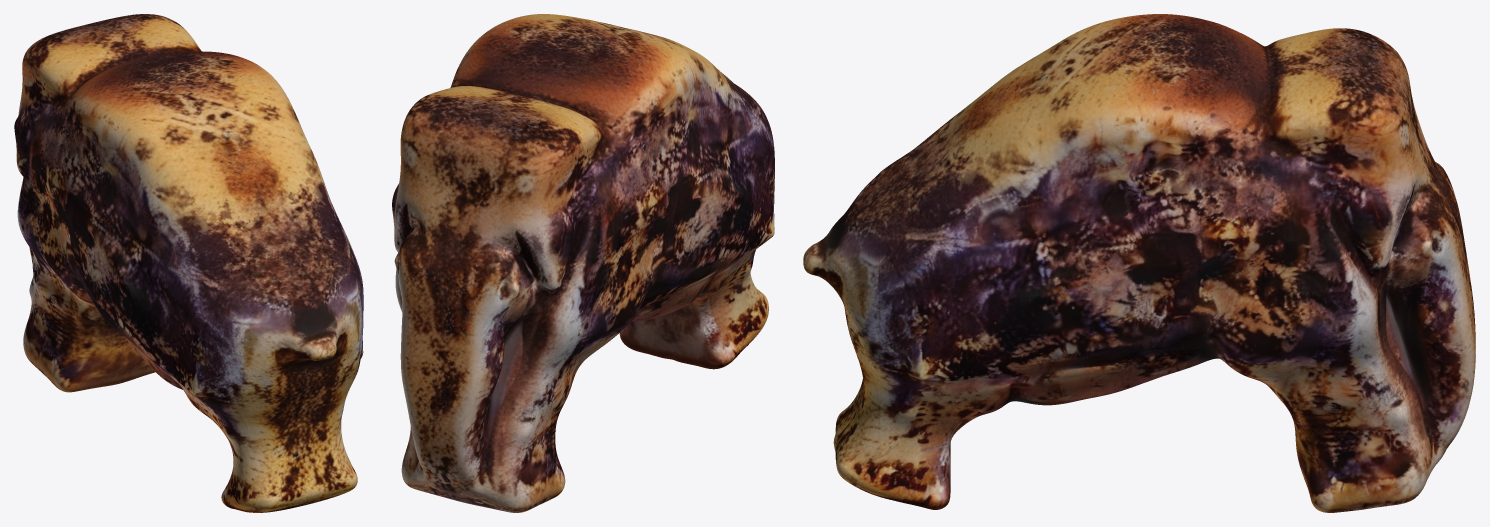
File: Manute_Vogelherd.glb
3 views of the same model, side by side, from view 1: azimuth 30°, elevation 25°; view 2: azimuth 150°, elevation 25°; view 3: azimuth 270°, elevation 25° (orthographic). The views are drawn at different scales.
Visible parts, largest first — view 1: tripo_node_d3b5f511-c82e-4579-9b68-ed200e5ba402; view 2: tripo_node_d3b5f511-c82e-4579-9b68-ed200e5ba402; view 3: tripo_node_d3b5f511-c82e-4579-9b68-ed200e5ba402.
Part boxes in pixels (x1,y1,x2,y2): tripo_node_d3b5f511-c82e-4579-9b68-ed200e5ba402: [14, 14, 363, 512]; tripo_node_d3b5f511-c82e-4579-9b68-ed200e5ba402: [392, 14, 774, 512]; tripo_node_d3b5f511-c82e-4579-9b68-ed200e5ba402: [803, 14, 1475, 512].
Size of the model in its own units: 0.4379 by 0.7265 by 1.
1 material, 1 textured.
